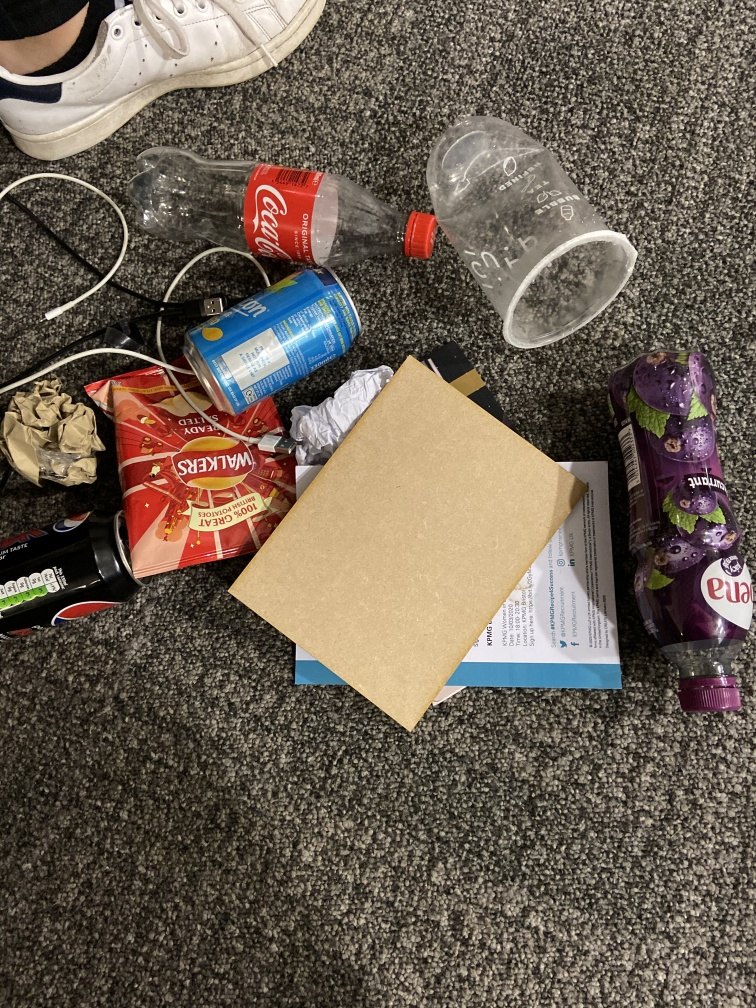bottle_purple: (603, 349, 756, 717)
bottle_red: (126, 144, 442, 270)
can_black: (1, 498, 154, 661)
can_blue: (176, 267, 366, 416)
paper_brown: (2, 376, 109, 493)
paper_white: (290, 366, 398, 458)
